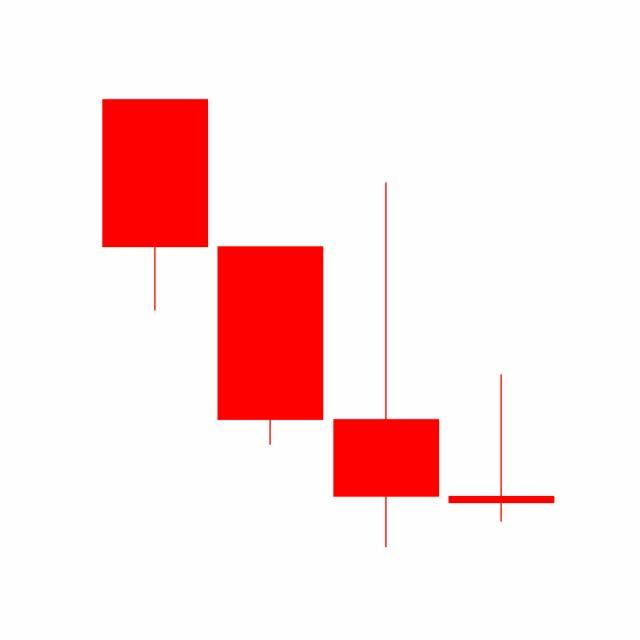Gravestone Doji: (444, 374, 560, 525)
